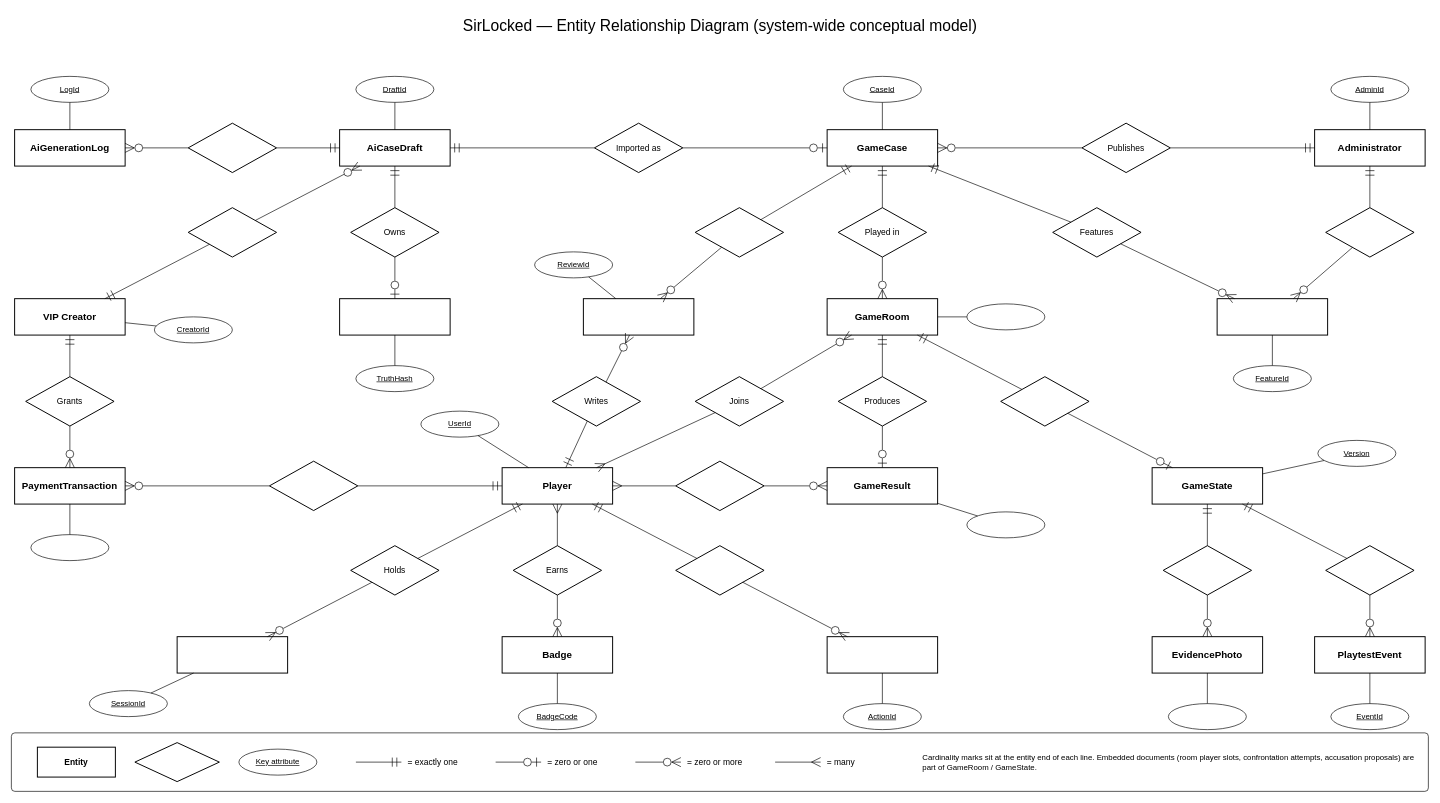
This 1440x803 diagram has some shape labels left out. The shapes that lost their labels are listed below. From the top down, each one's box as (x1, y1, x2, y2) in pixels, then its label:
(187, 122, 277, 173): Records
(187, 207, 277, 257): Creates
(694, 207, 784, 257): About
(1325, 207, 1414, 257): Configures
(339, 298, 450, 335): CaseTruthPackage
(583, 298, 694, 335): CaseReview
(966, 303, 1045, 330): RoomCode
(1216, 298, 1328, 335): WeeklyFeature
(1000, 376, 1089, 426): Contains
(269, 460, 358, 511): Pays
(675, 460, 764, 511): Takes part in
(966, 511, 1045, 538): ResultId
(30, 534, 109, 561): OrderCode
(675, 545, 764, 595): Performs
(1162, 545, 1252, 595): Captures
(1325, 545, 1414, 595): Emits
(176, 636, 288, 673): RefreshSession
(826, 636, 938, 673): GameActionLog
(1168, 703, 1246, 730): PhotoId
(134, 742, 220, 782): Relationship
